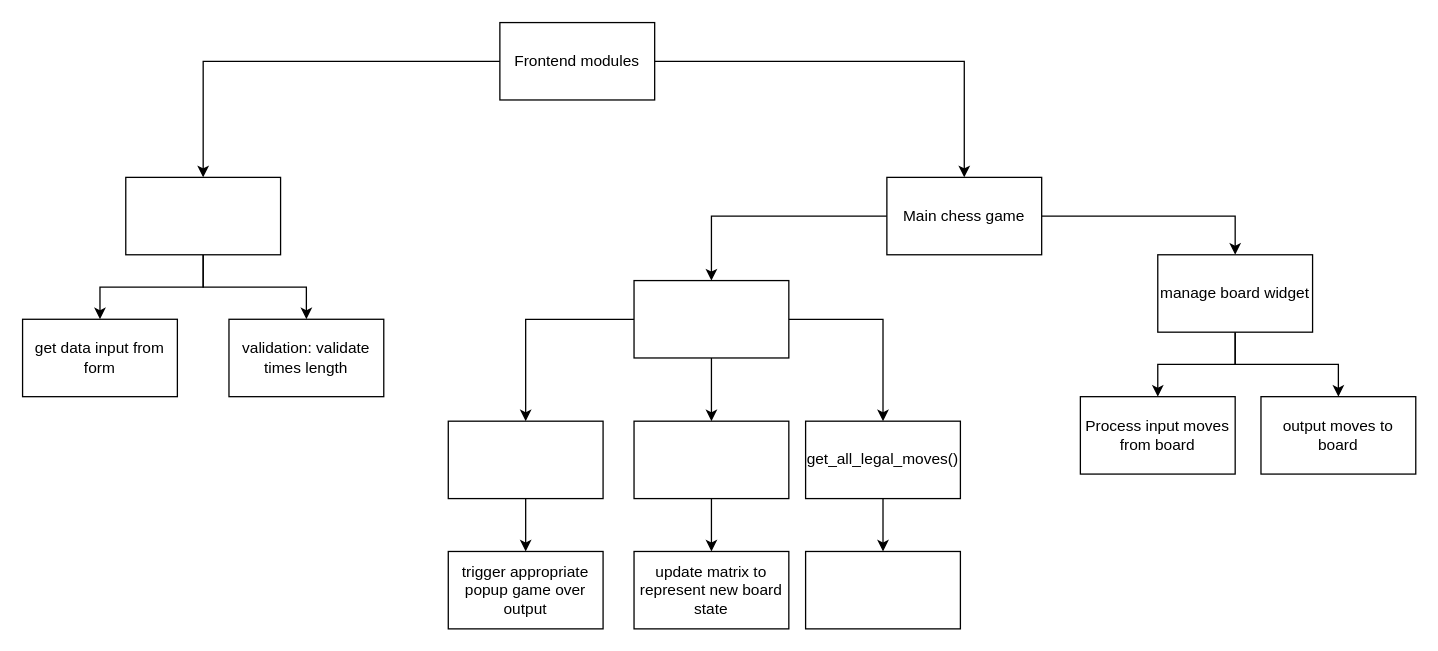
Some shapes in this 1438 by 651 pixel diagram are drawn without their labels. The shapes that lost their labels are listed below. From the top down, each one's centre as x and y in pixels, then its label:
the point at 202,215: Pre game config form
the point at 711,318: API socket connection to backend
the point at 525,459: is_game_over()
the point at 711,459: get_computer_move()
the point at 882,589: update array of legal moves
